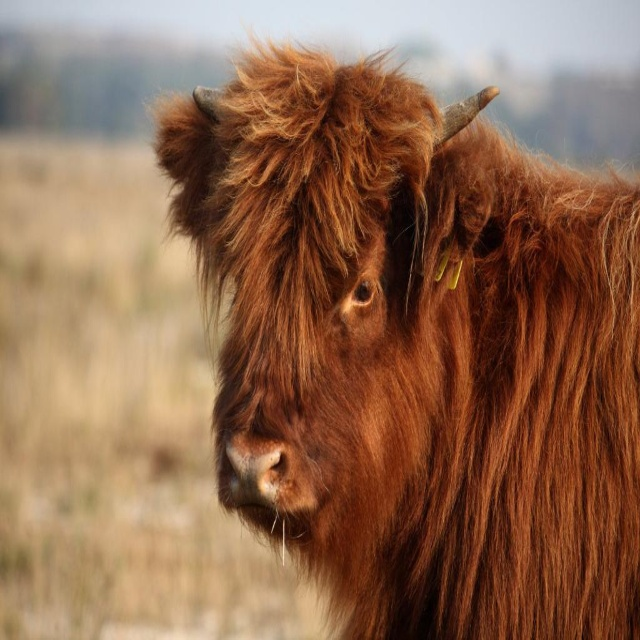Bull: (144, 35, 640, 639)
